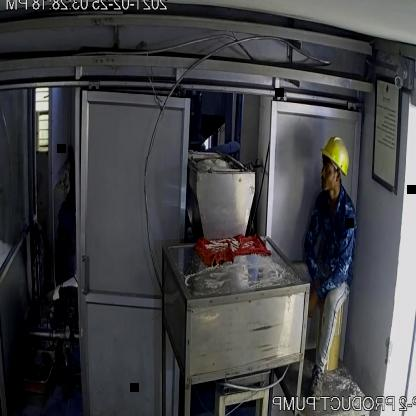helmet: (318, 133, 350, 183)
